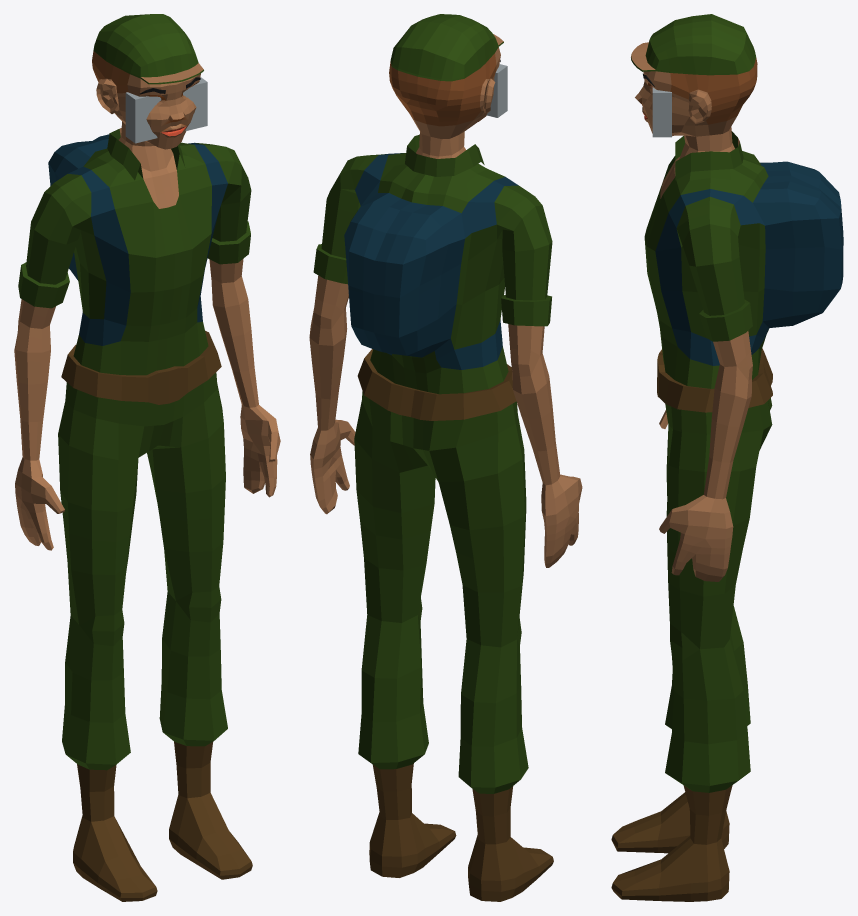
Rendered from Soldier_Stand_Mask.fbx.
3 renders of one model, left to right at view 1: azimuth 30°, elevation 25°; view 2: azimuth 150°, elevation 25°; view 3: azimuth 270°, elevation 25°, orthographic. The views are drawn at different scales.
Parts seen in each view (by area): view 1: Soldier_Stand_Mask; view 2: Soldier_Stand_Mask; view 3: Soldier_Stand_Mask.
Part boxes in pixels (x1,y1,x2,y2): Soldier_Stand_Mask: (14,14,280,901); Soldier_Stand_Mask: (309,14,582,901); Soldier_Stand_Mask: (611,14,843,901).
Size of the model in its own units: 0.3234 by 1.05 by 0.2611.
